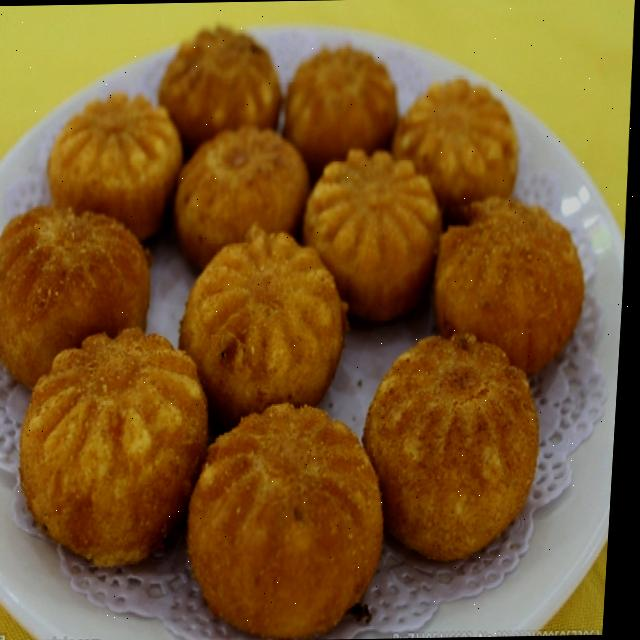炸货点心: (0, 17, 620, 626)
蛋糕甜品: (0, 17, 620, 626)
